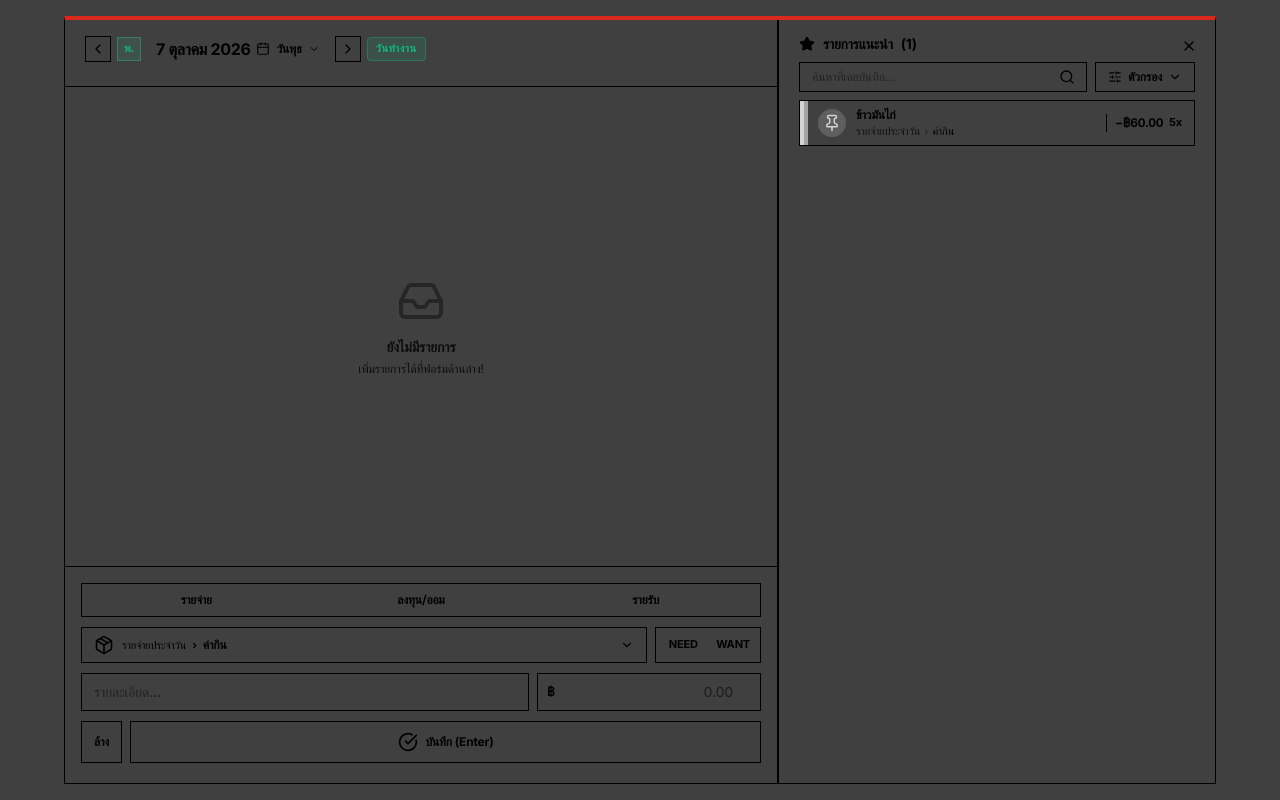
Test: DayDetailModal — quick suggestions › offers only the suggestions that fit the form type, and fills the form when one is clicked
Click the button with class "sugg-item": x=876, y=114 [799,100,1195,146]
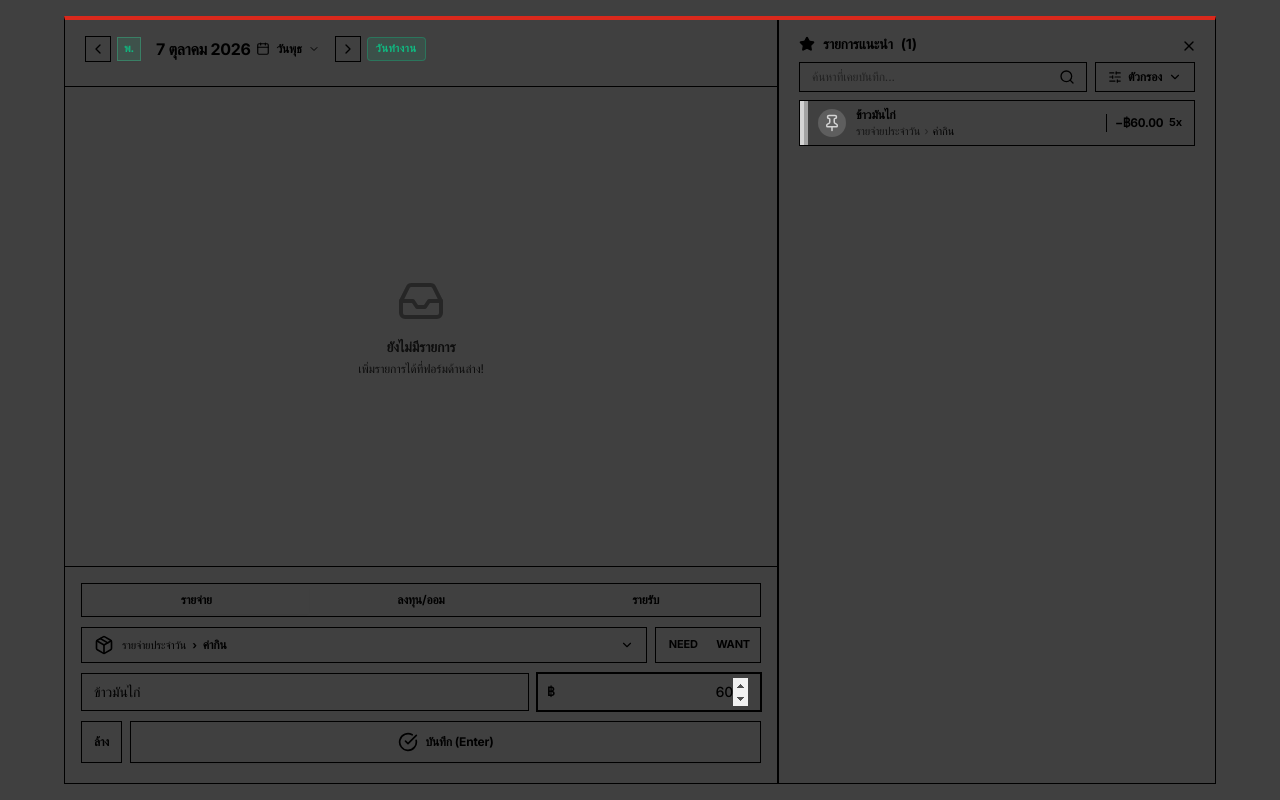
expect the field with placeholder "รายละเอียด..." holds "ข้าวมันไก่": met, box [81,673,529,711]
expect the number field named "จำนวนเงิน" holds "60": met, box [537,673,761,711]
